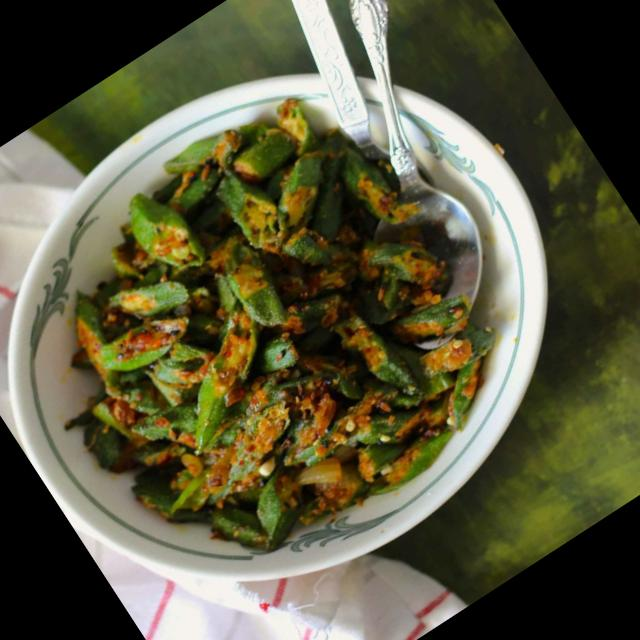BhindiMasala: (0, 62, 533, 619)
